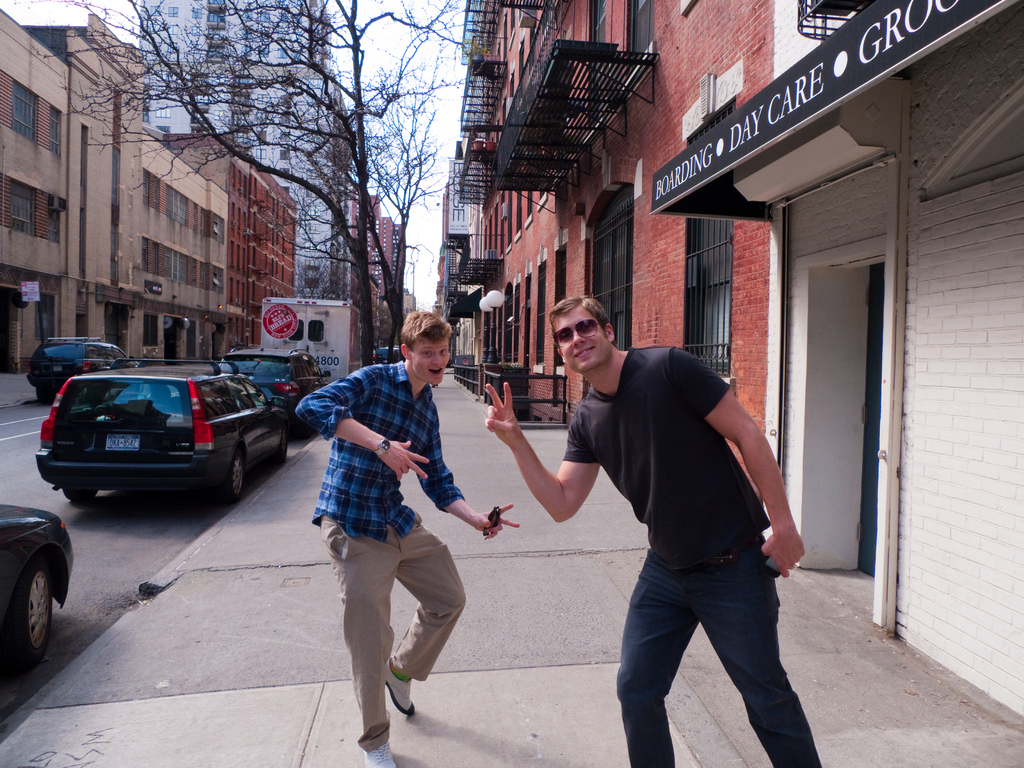Car: (27, 364, 272, 517), (0, 494, 69, 668), (216, 343, 330, 440), (21, 323, 136, 404)
